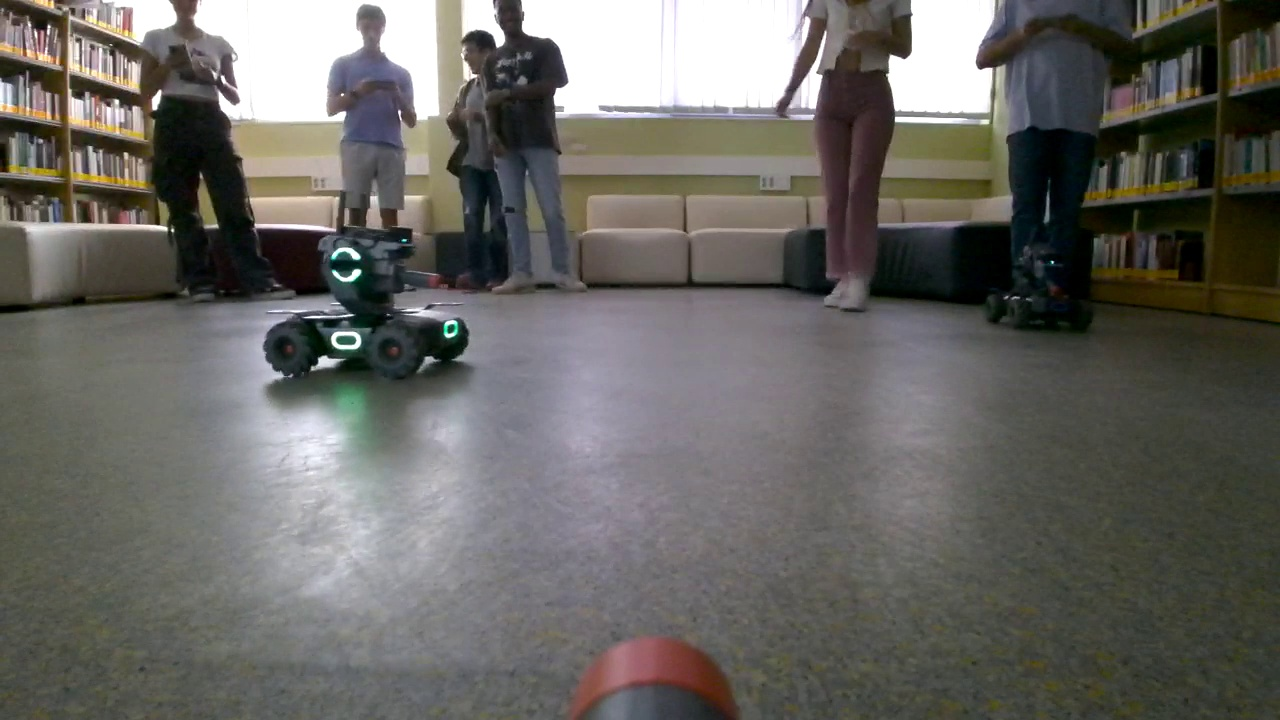robot: (259, 224, 470, 381)
